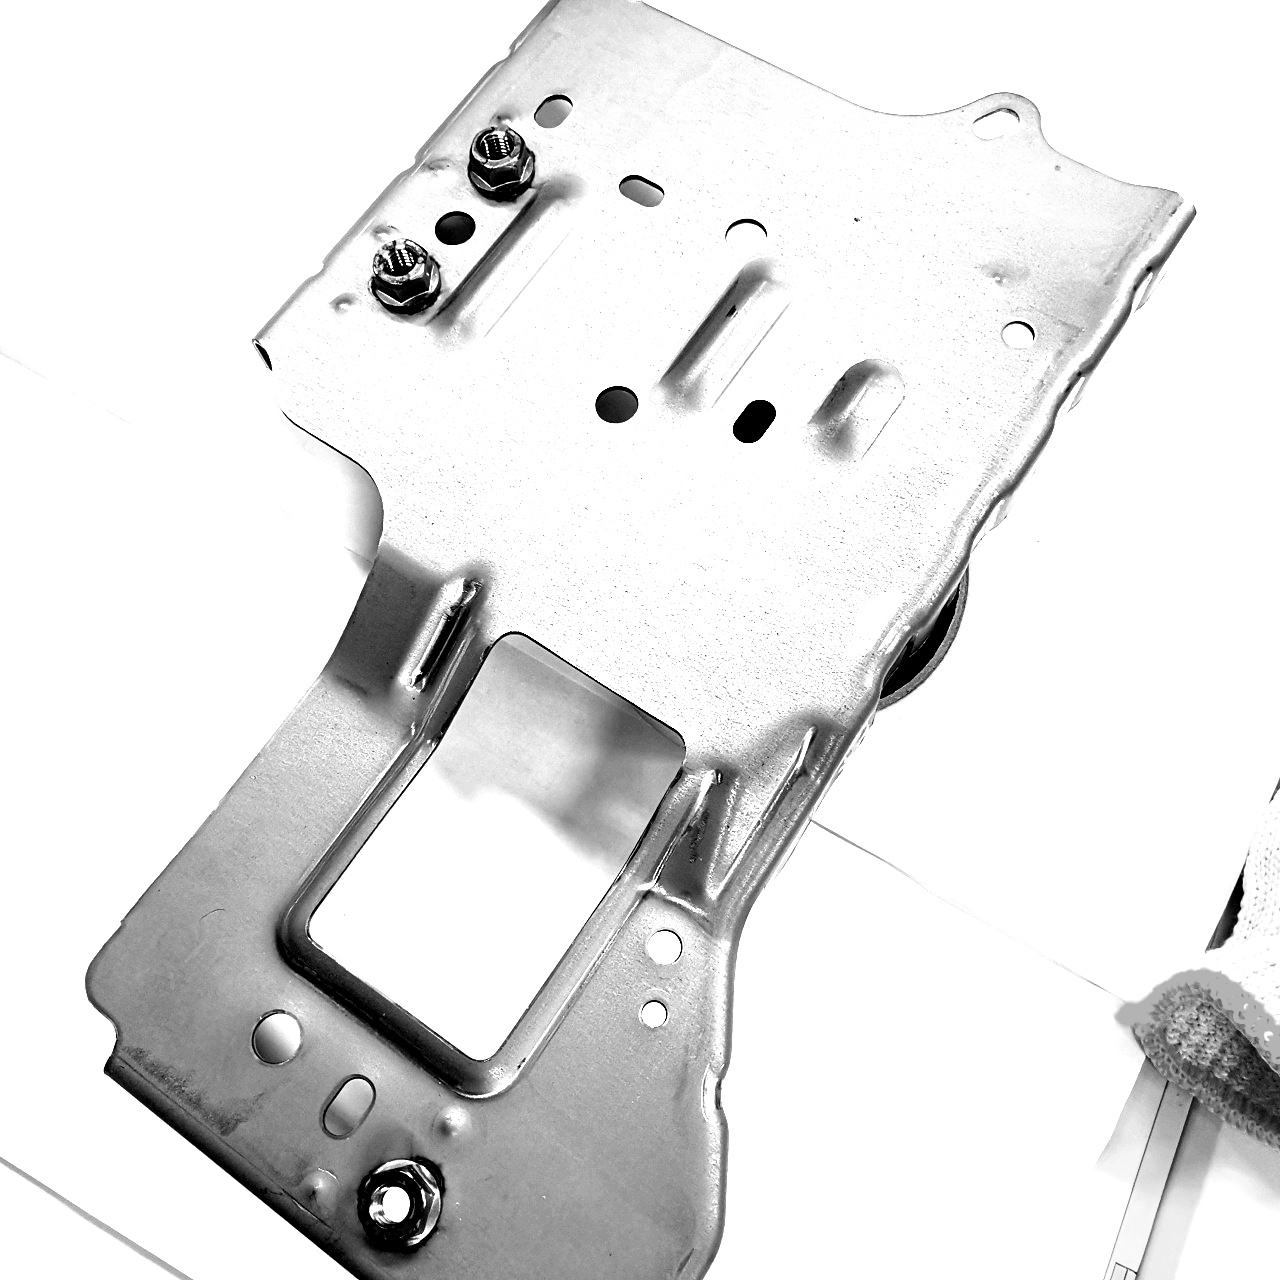dog: (354, 1150, 445, 1258), (462, 120, 540, 207), (366, 238, 445, 322)
